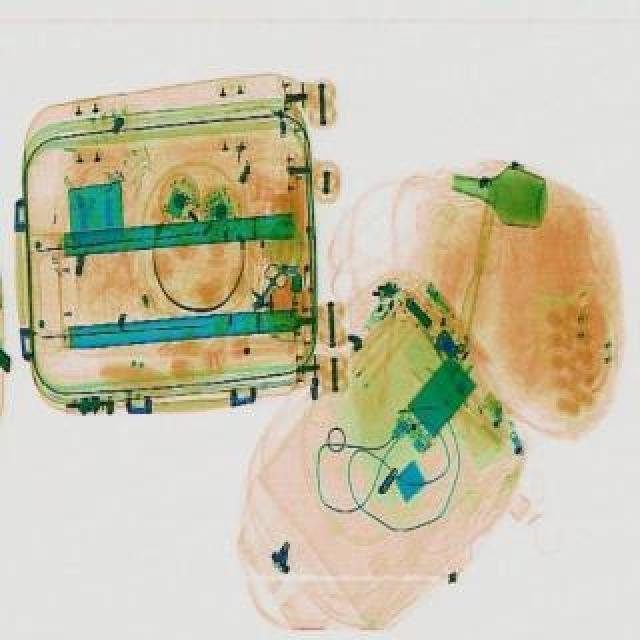pliers: (240, 260, 292, 316)
